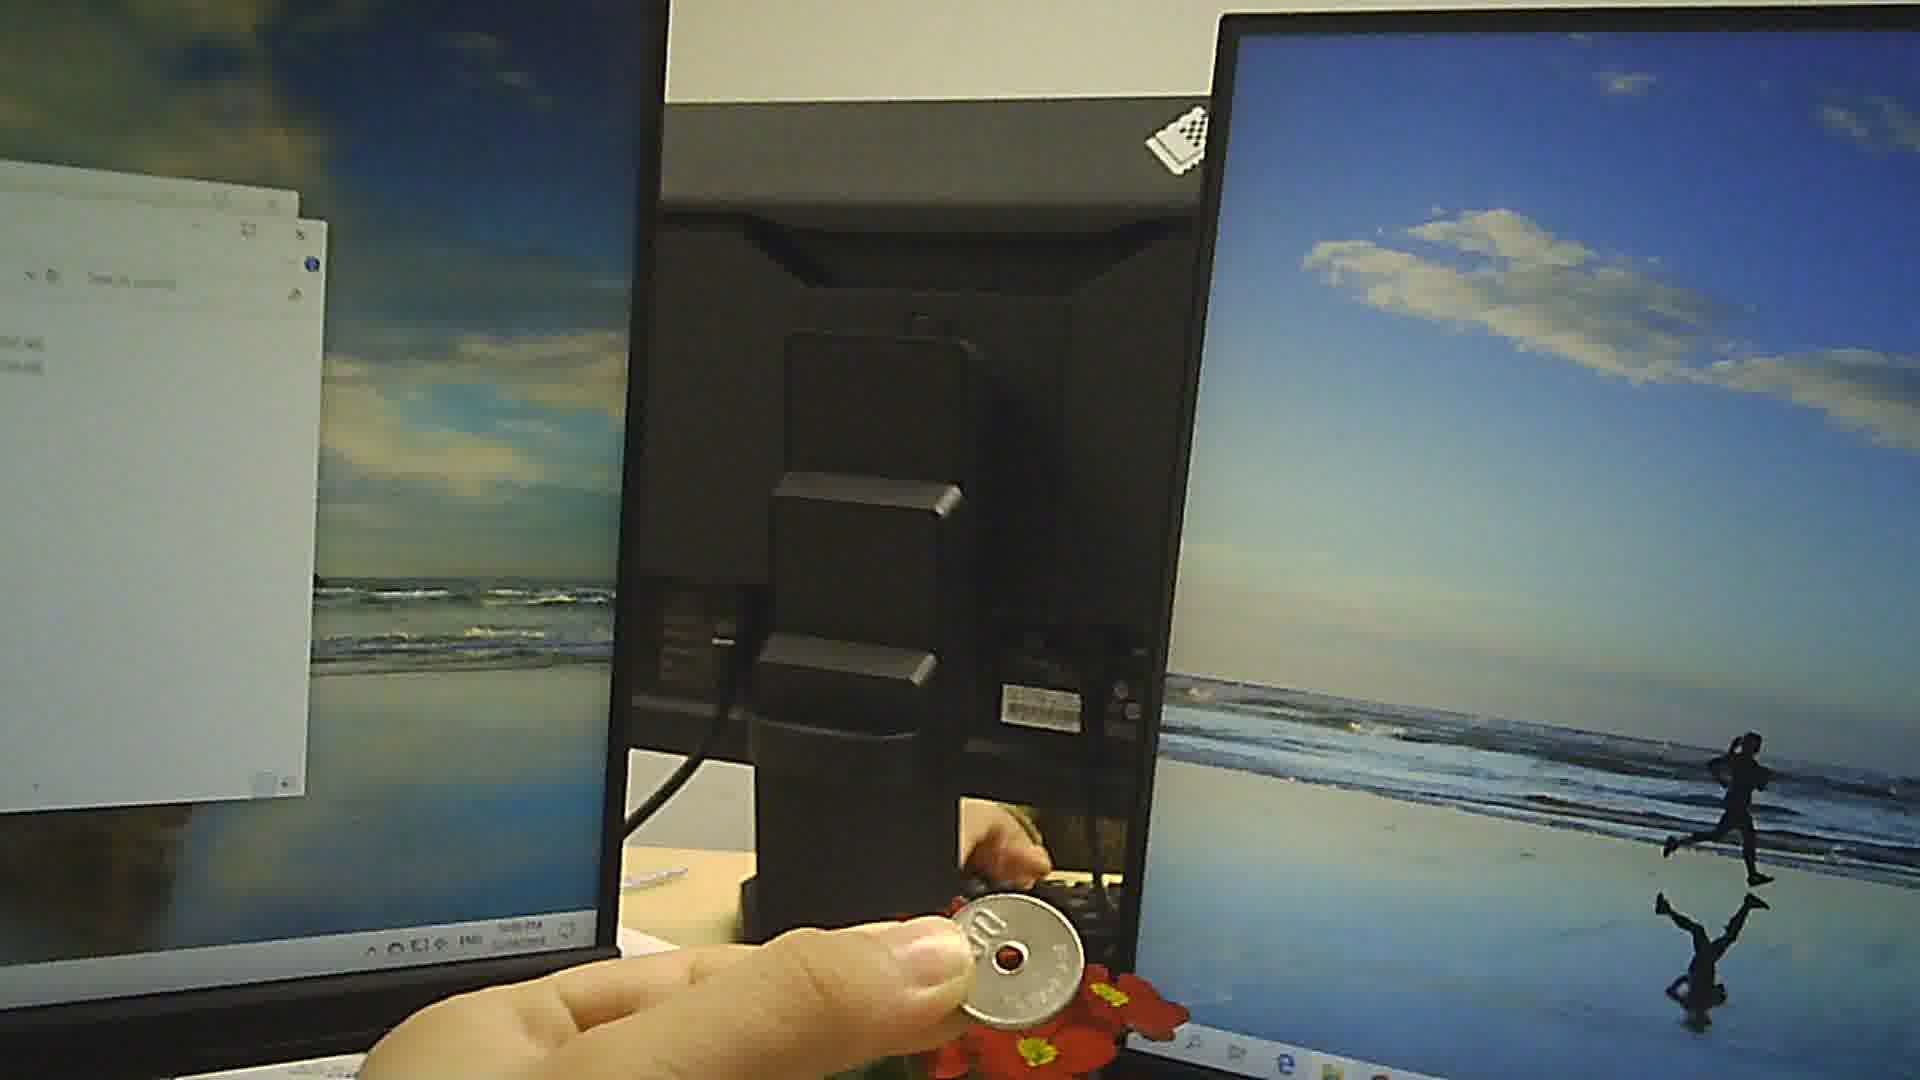50 Yen: (949, 891, 1088, 1033)
